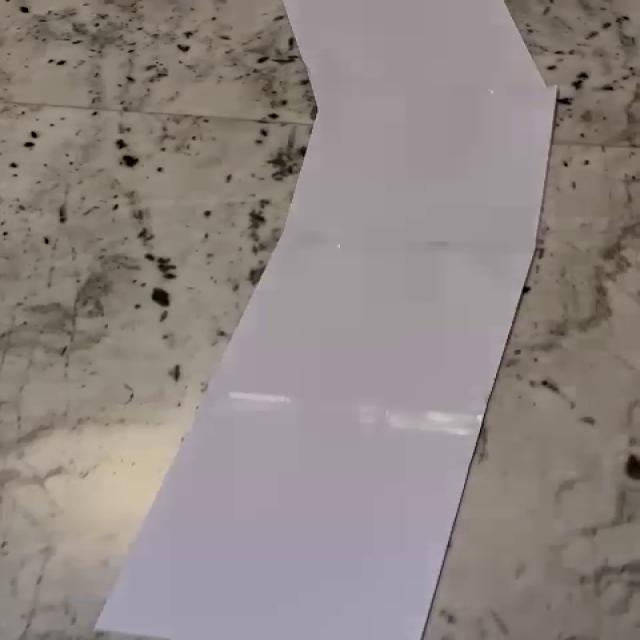road: (96, 0, 556, 640)
